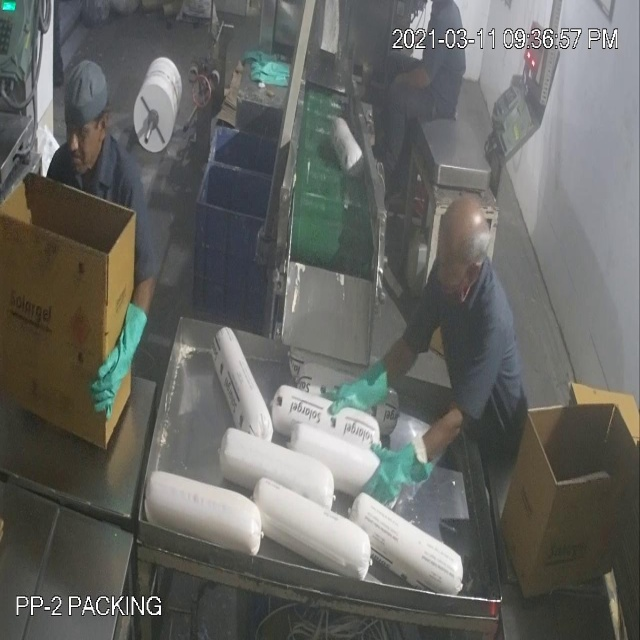Guantes: (82, 295, 151, 418), (352, 404, 433, 506), (317, 344, 388, 421)
